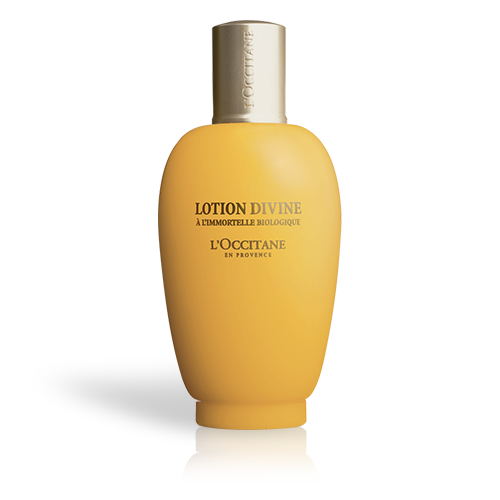Nonrec_Plastic: (168, 13, 361, 441)
